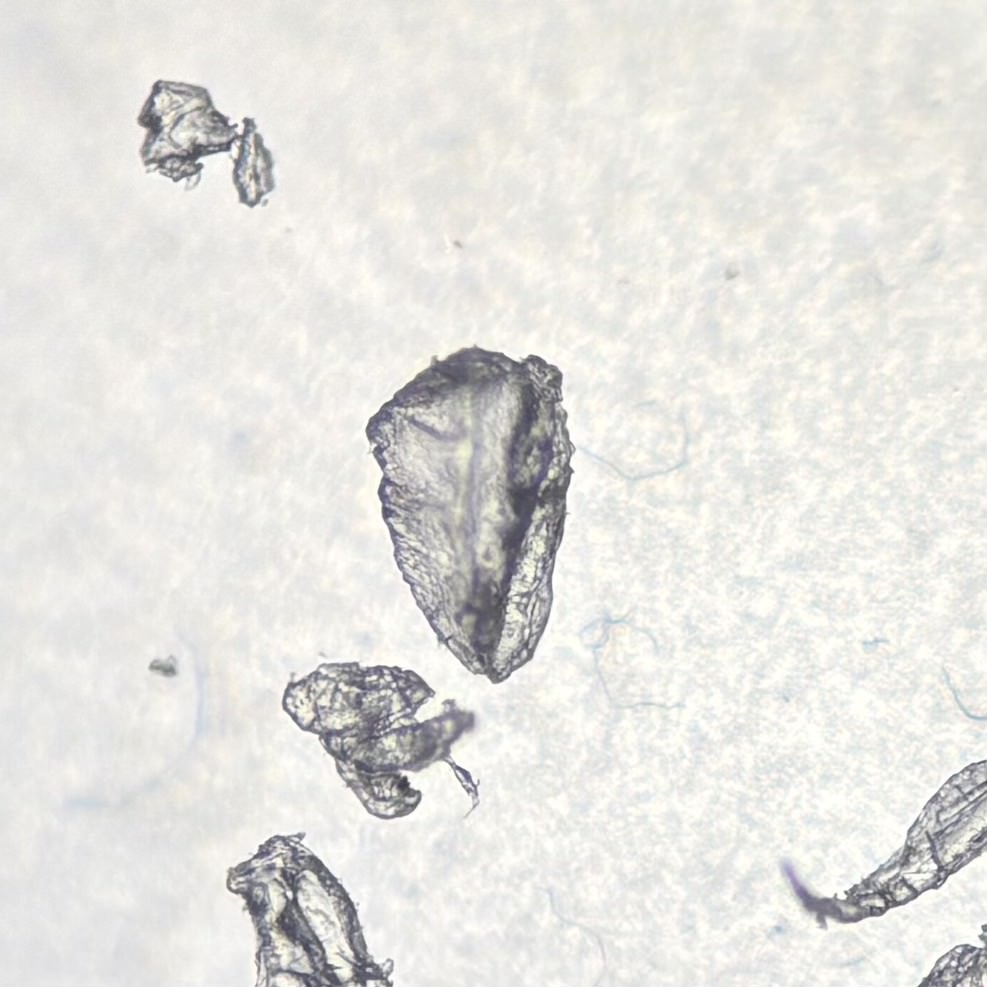microplastic: (361, 342, 578, 688), (777, 755, 987, 929), (283, 661, 489, 823), (224, 831, 403, 987), (136, 79, 287, 210), (917, 922, 987, 985), (148, 654, 185, 682)
